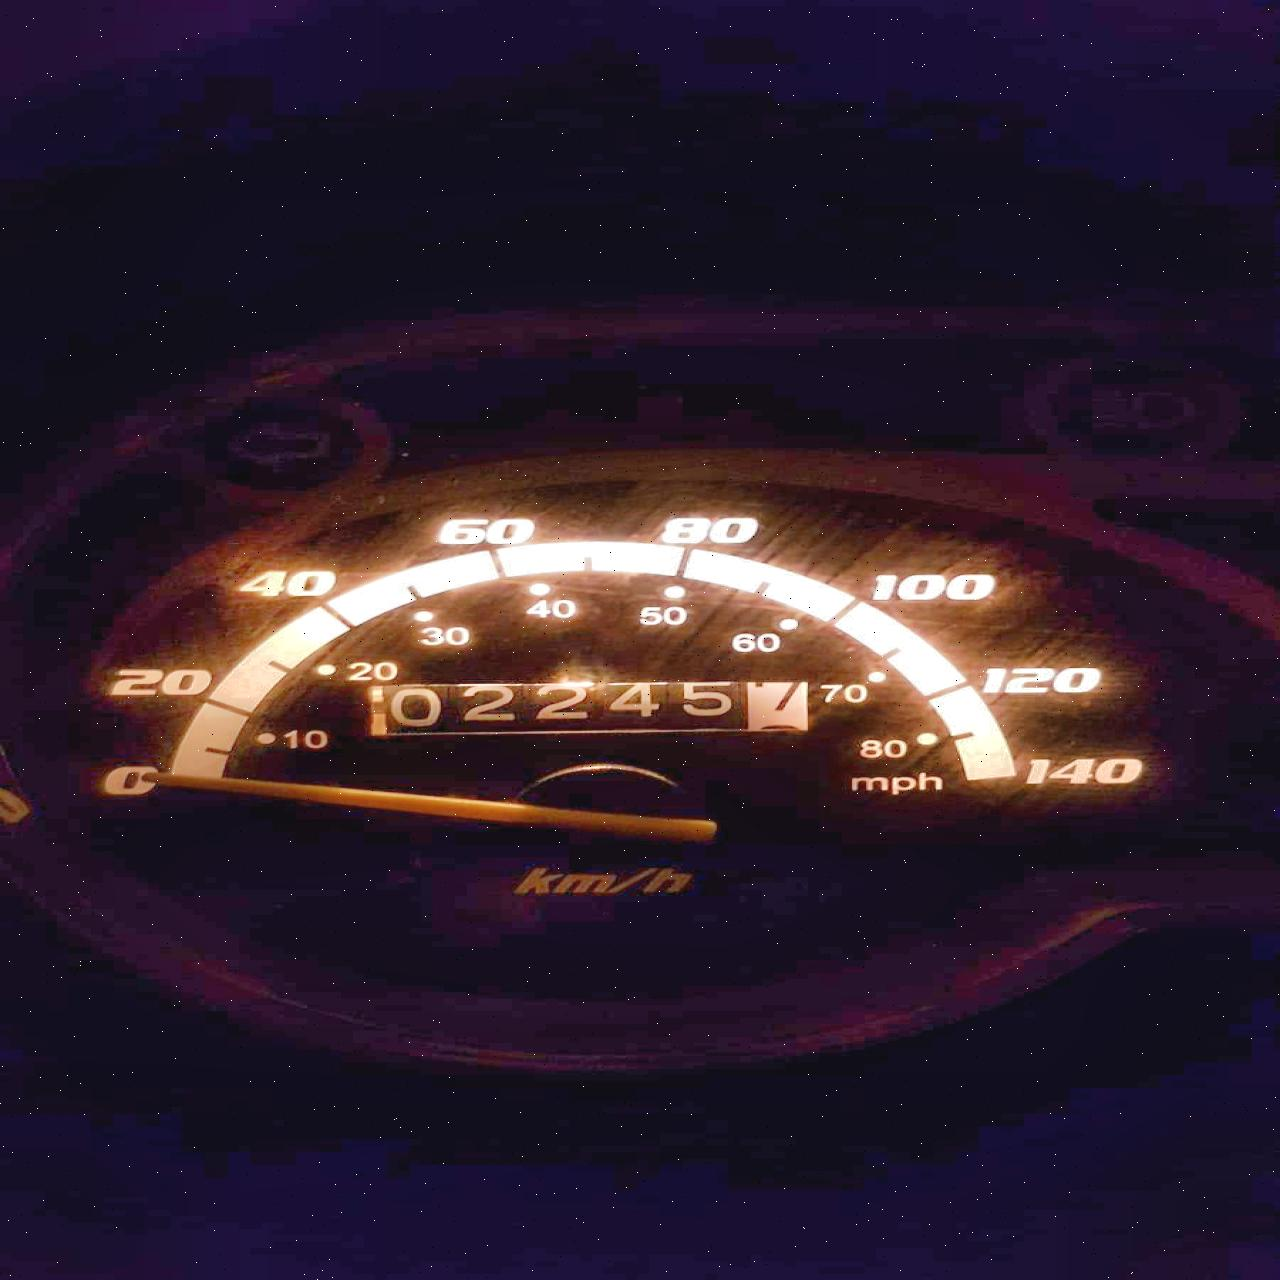0: (381, 685, 444, 730)
2: (455, 682, 518, 728), (533, 683, 588, 724)
4: (606, 681, 665, 723)
5: (678, 681, 738, 722)
7: (748, 680, 806, 719)
odometer: (361, 680, 821, 738)
